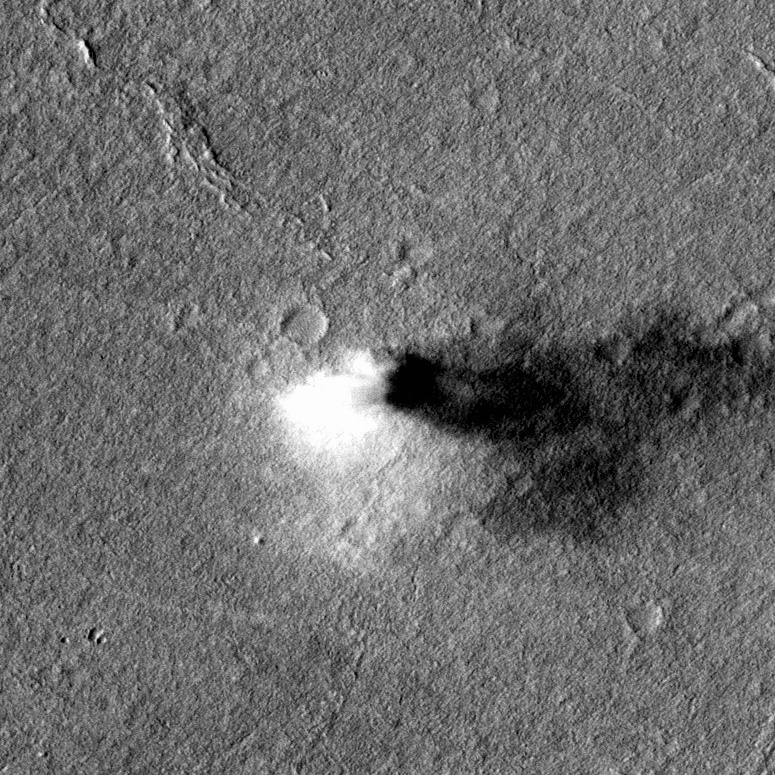dust_devil: (264, 301, 775, 564)
